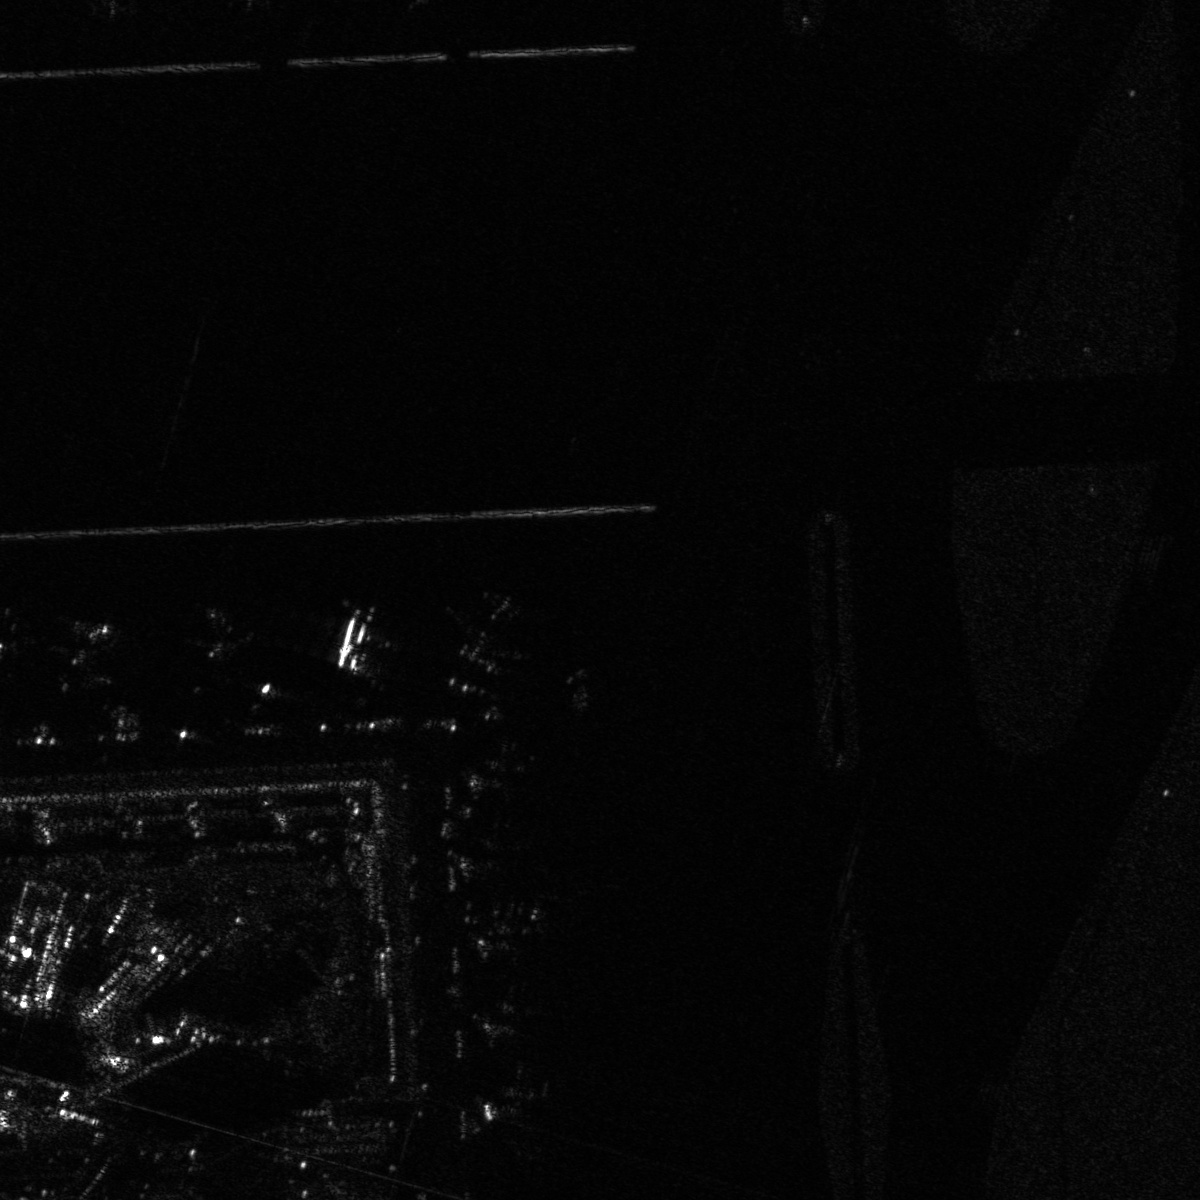A320/321: (445, 588, 544, 689)
Boeing787: (319, 604, 401, 681), (179, 604, 254, 682)
other: (52, 618, 116, 695)
